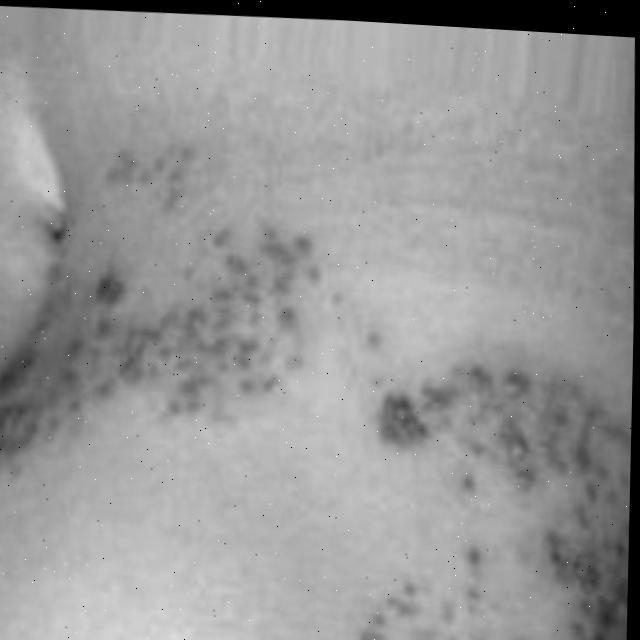Shingles: (0, 129, 358, 483), (362, 332, 633, 640)
